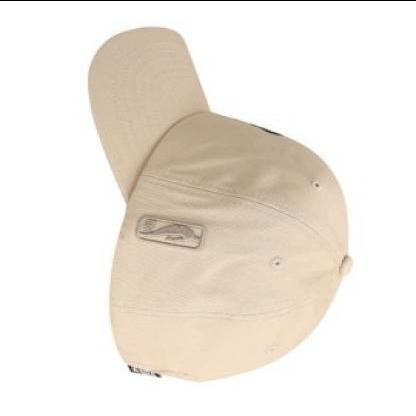cap: (71, 18, 367, 390)
